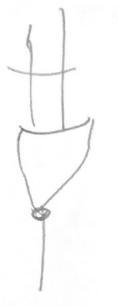XNOR: (5, 59, 106, 235)
